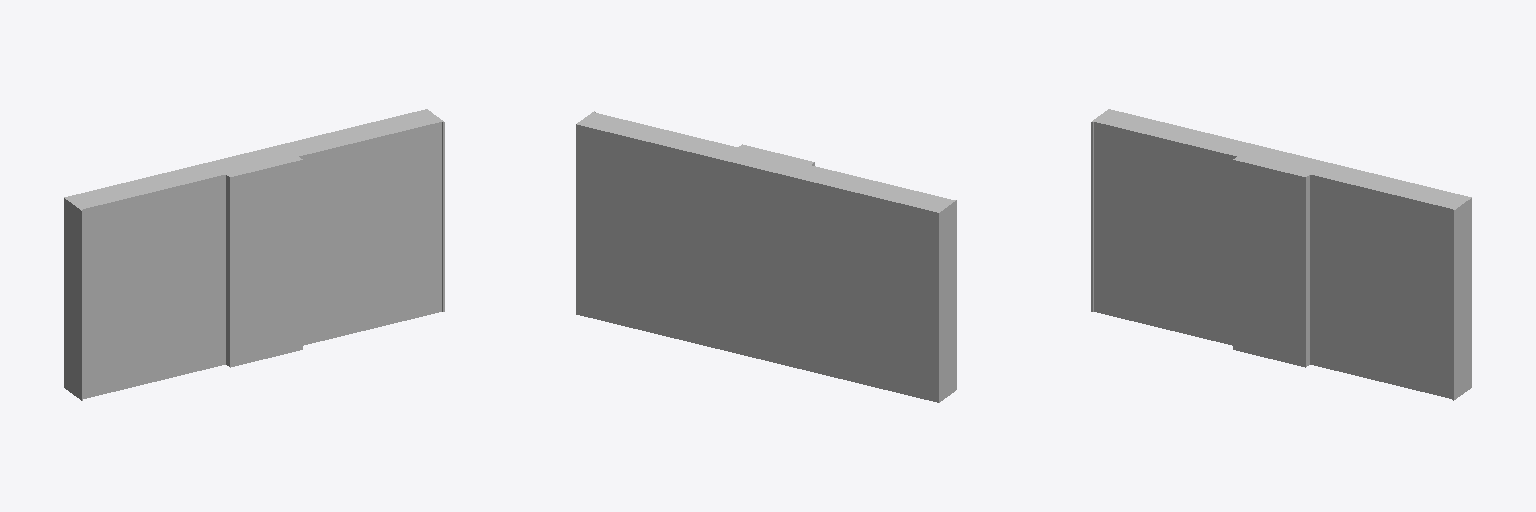
File: Insulated walls.obj
The picture shows the model from 3 angles: view 1: azimuth 30°, elevation 25°; view 2: azimuth 150°, elevation 25°; view 3: azimuth 330°, elevation 25°; orthographic projection.
Visible parts, largest first — view 1: Real_insulator_Cube.006, Demo_insulator_Cube.009, Wood_peg_Cube.005, Wall_Cube.002, Real_felt_side_Cube.007, Demo_felt_side_Cube.010; view 2: Wall_Cube.002, Real_felt_side_Cube.007, Real_insulator_Cube.006, Demo_insulator_Cube.009, Wood_peg_Cube.005; view 3: Demo_insulator_Cube.009, Real_insulator_Cube.006, Wood_peg_Cube.005, Demo_felt_side_Cube.010, Wall_Cube.002, Real_felt_side_Cube.007.
Part boxes in pixels (x1,y1,x2,y2): Real_insulator_Cube.006: (73, 167, 225, 398); Demo_insulator_Cube.009: (289, 114, 441, 345); Wood_peg_Cube.005: (215, 148, 302, 367); Wall_Cube.002: (64, 109, 431, 390); Real_felt_side_Cube.007: (69, 201, 82, 400); Demo_felt_side_Cube.010: (431, 113, 444, 311); Wall_Cube.002: (576, 121, 943, 402); Real_felt_side_Cube.007: (944, 200, 956, 397); Real_insulator_Cube.006: (801, 165, 953, 207); Demo_insulator_Cube.009: (585, 113, 737, 154); Wood_peg_Cube.005: (727, 144, 814, 172); Demo_insulator_Cube.009: (1310, 167, 1462, 398); Real_insulator_Cube.006: (1094, 114, 1246, 345); Wood_peg_Cube.005: (1233, 148, 1319, 367); Demo_felt_side_Cube.010: (1452, 201, 1466, 400); Wall_Cube.002: (1104, 109, 1471, 390); Real_felt_side_Cube.007: (1091, 113, 1103, 311).
Bounding box in the file's own units: 4 × 2 × 0.4.